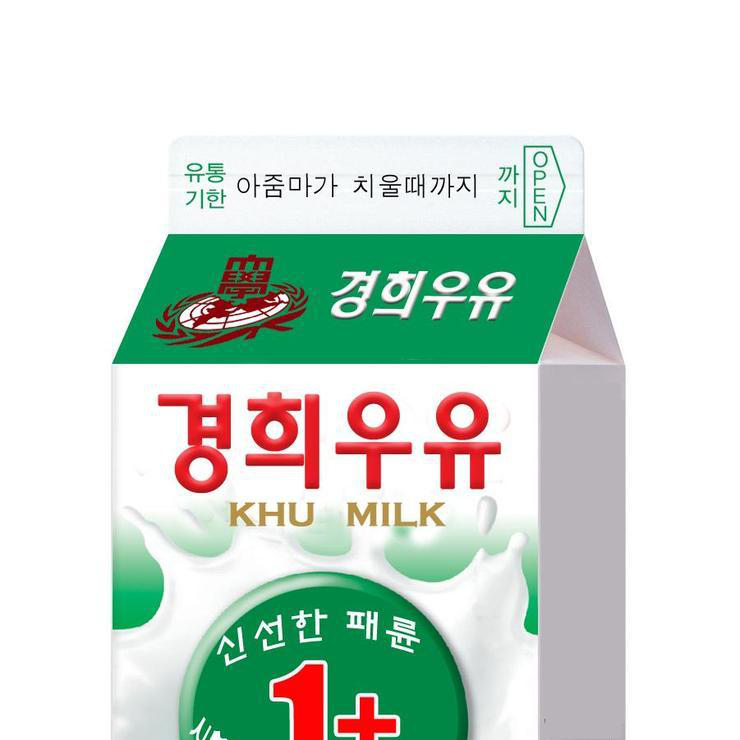milk: (111, 131, 626, 740)
